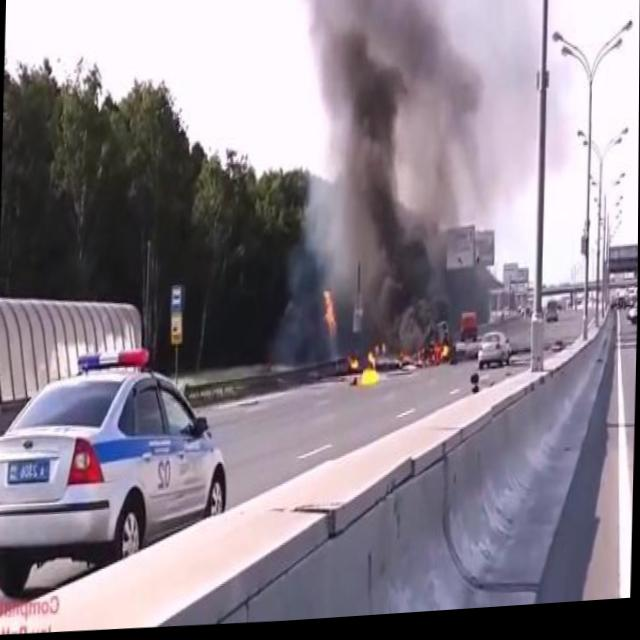fire: (346, 346, 388, 394), (397, 342, 451, 376), (319, 287, 340, 343)
